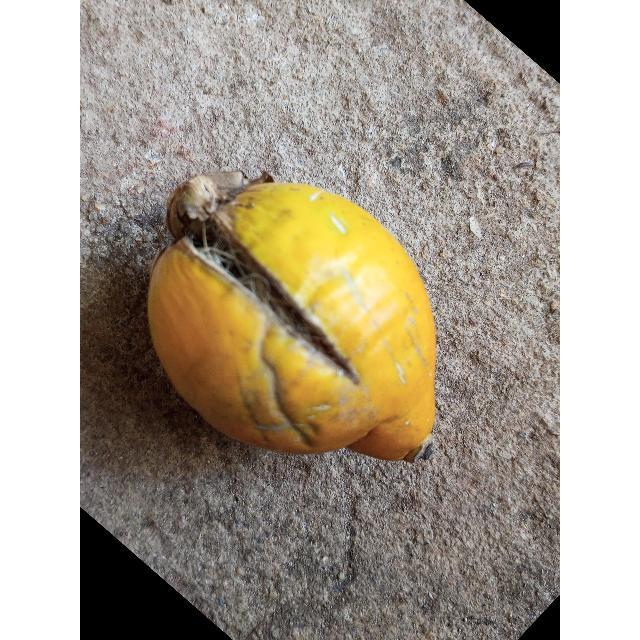damaged: (148, 175, 438, 464)
